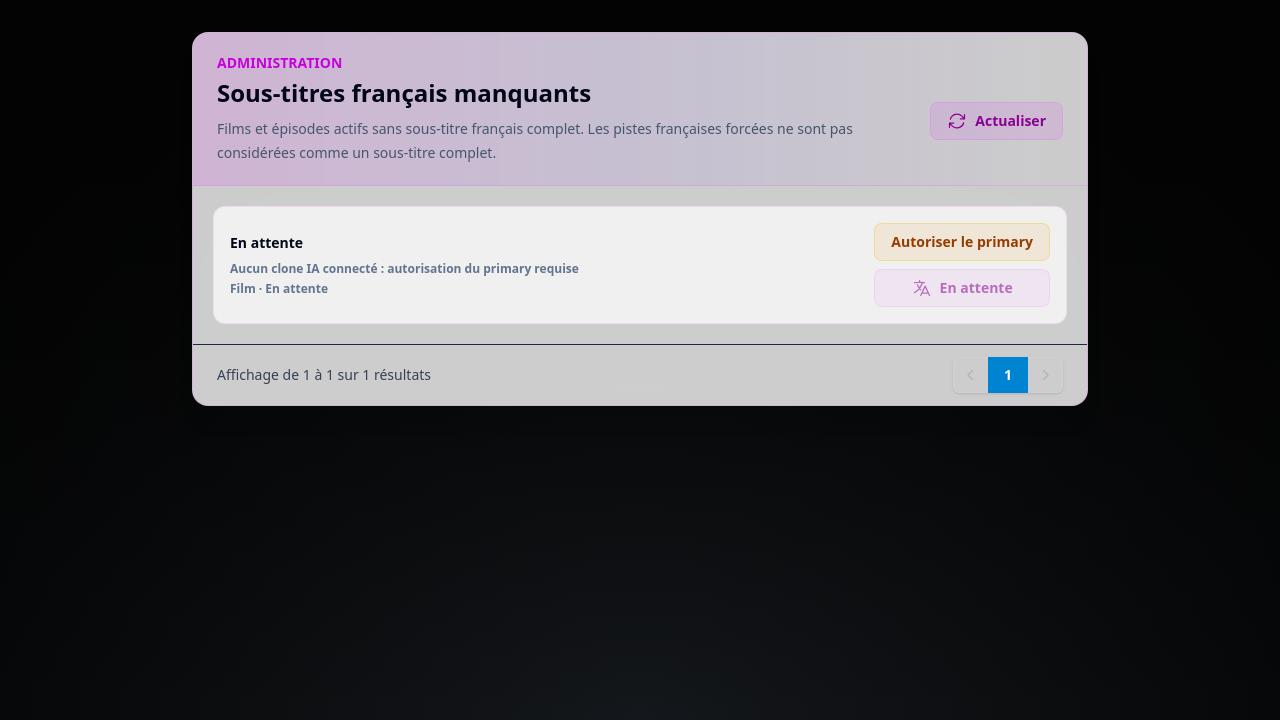
it: autorise le primary pour un sous-titre en attente sans clone connecté
Click the button "Autoriser le primary": [962, 242] box [874,223,1050,261]
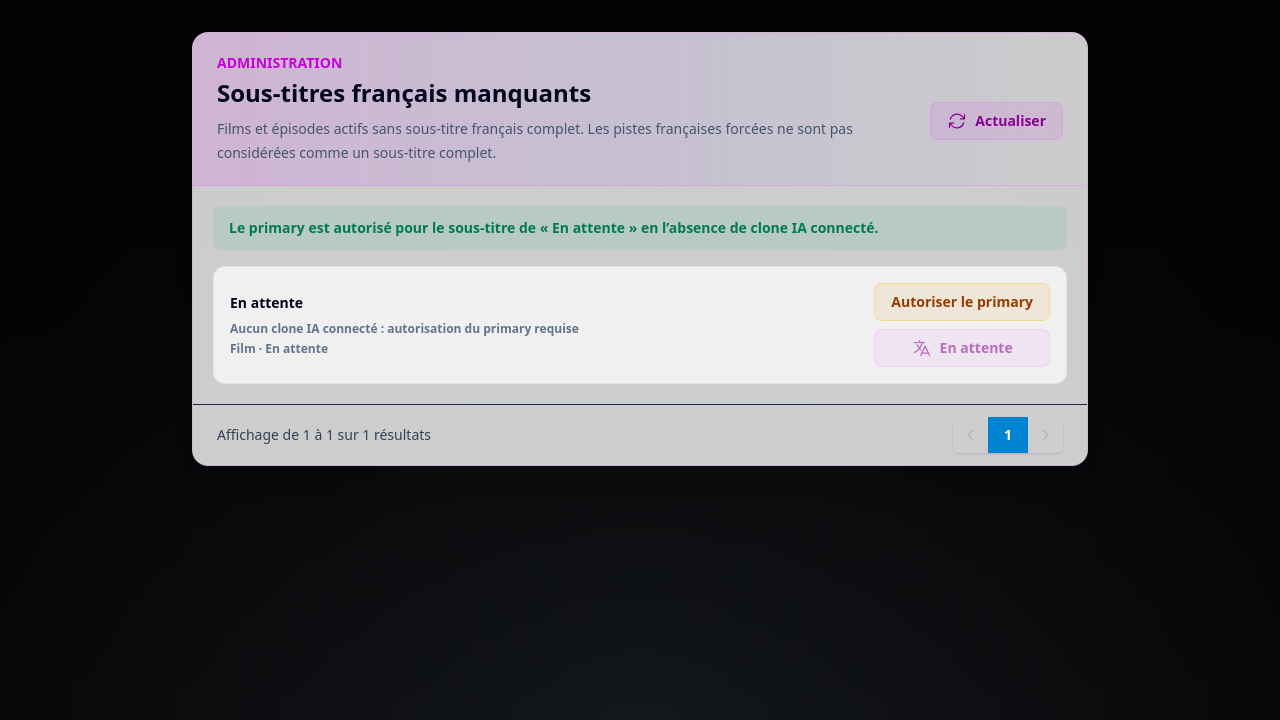
Result: the text "Le primary est autorisé pour le sous-titre" is shown at [229,218,878,237]
